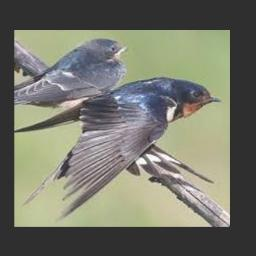Swallow: (14, 77, 221, 220), (14, 38, 126, 103)
